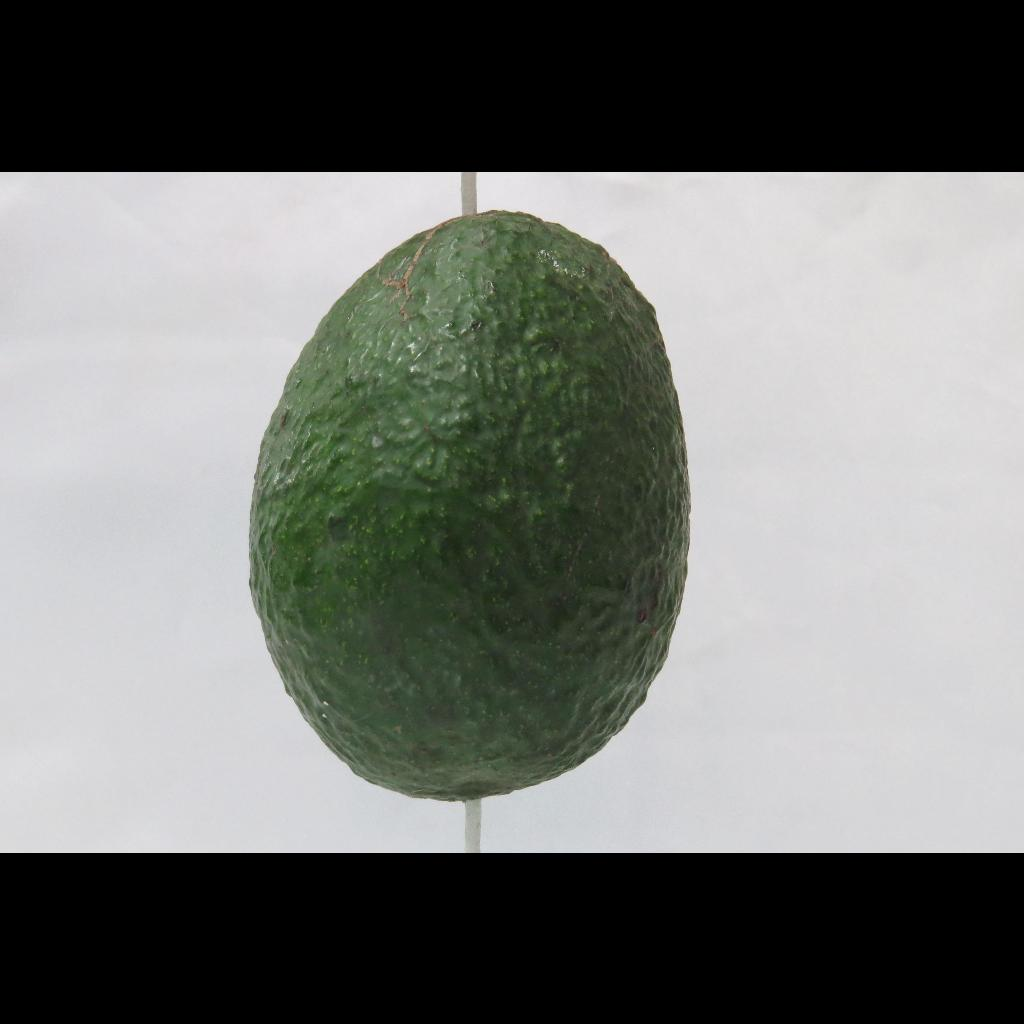Healthy: (206, 184, 752, 814)
